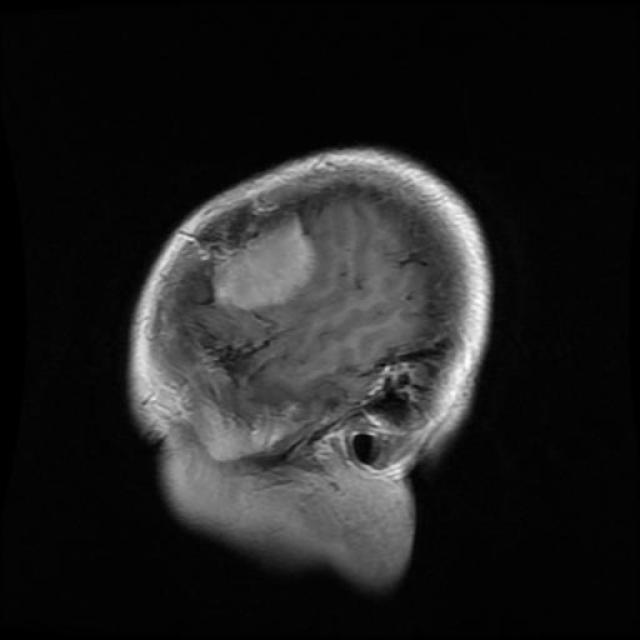meningioma: (212, 224, 312, 310)
